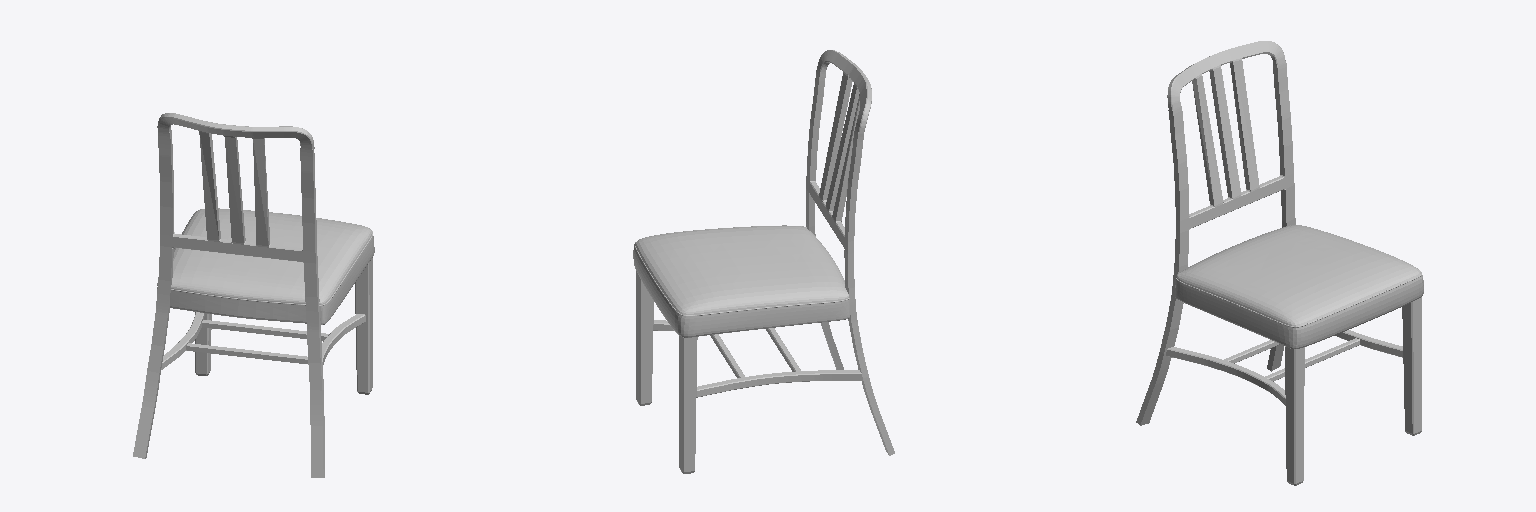
The model's file is dinningchair.obj.
3 views of the same model, side by side, from view 1: azimuth 30°, elevation 25°; view 2: azimuth 150°, elevation 25°; view 3: azimuth 270°, elevation 25° (orthographic).
Bounding box in the file's own units: 3.11 × 4.06 × 3.09.